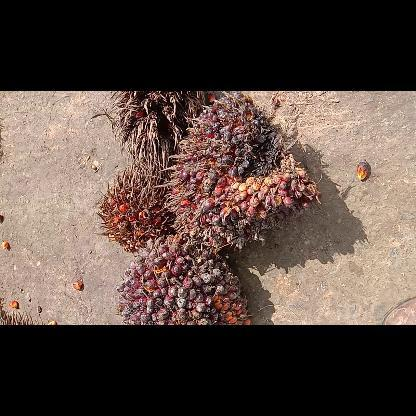Janjang kosong: (99, 91, 225, 177)
Kurang masak: (115, 232, 255, 324)
TBS masak: (158, 92, 324, 256)
Terlalu masak: (90, 166, 174, 252)
